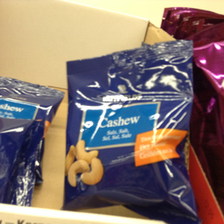nuts: (65, 40, 200, 224)
